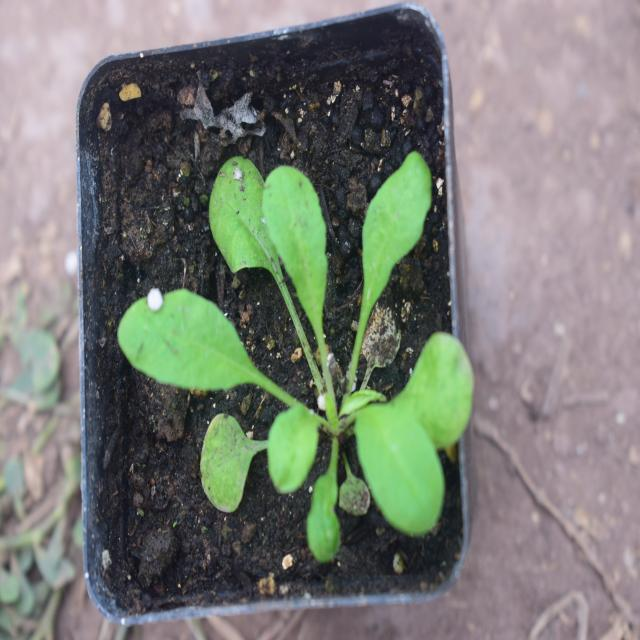Shepherd_Purse: (125, 160, 459, 534)
